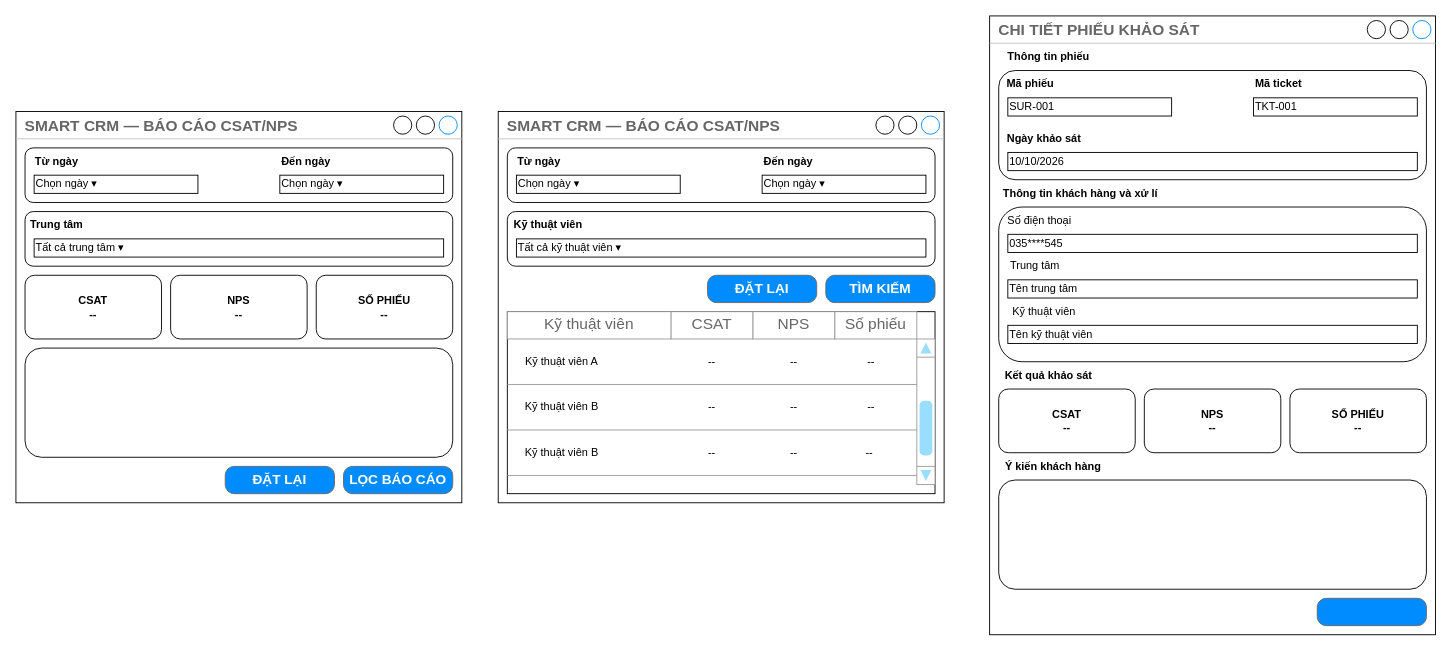
This 1451x651 diagram has some shape labels left out. The centre of each missing label's shape, as x and y in pixels:
Biểu đồ CSAT/NPS theo thời gian ( Khu vực hiển thị biểu đồ): the point at 238,402
Nội dung phản hồi.....: the point at 1212,534
QUAY LẠI: the point at 1371,611
